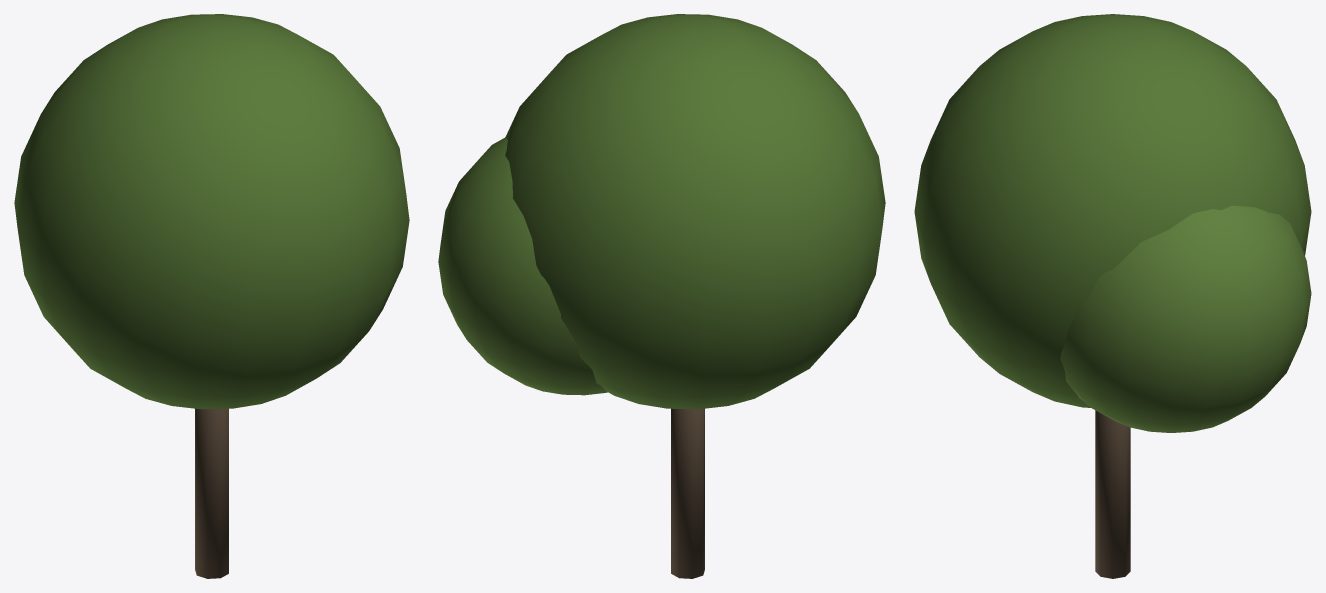
The model's file is Tree_fruit.fbx.
3 renders of one model, left to right at view 1: azimuth 30°, elevation 25°; view 2: azimuth 150°, elevation 25°; view 3: azimuth 270°, elevation 25°, orthographic.
Parts seen in each view (by area): view 1: Crown1, Trunk; view 2: Crown1, Crown2, Trunk; view 3: Crown1, Crown2, Trunk.
Part boxes in pixels (left/top/right/bottom): Crown1: left=14, top=14, right=409, bottom=409; Trunk: left=195, top=408, right=228, bottom=578; Crown1: left=505, top=14, right=885, bottom=409; Crown2: left=438, top=137, right=607, bottom=395; Trunk: left=671, top=408, right=704, bottom=578; Crown1: left=914, top=14, right=1311, bottom=407; Crown2: left=1060, top=205, right=1311, bottom=432; Trunk: left=1095, top=410, right=1130, bottom=578.
Bounding box in the file's own units: 370 × 340 × 510.
